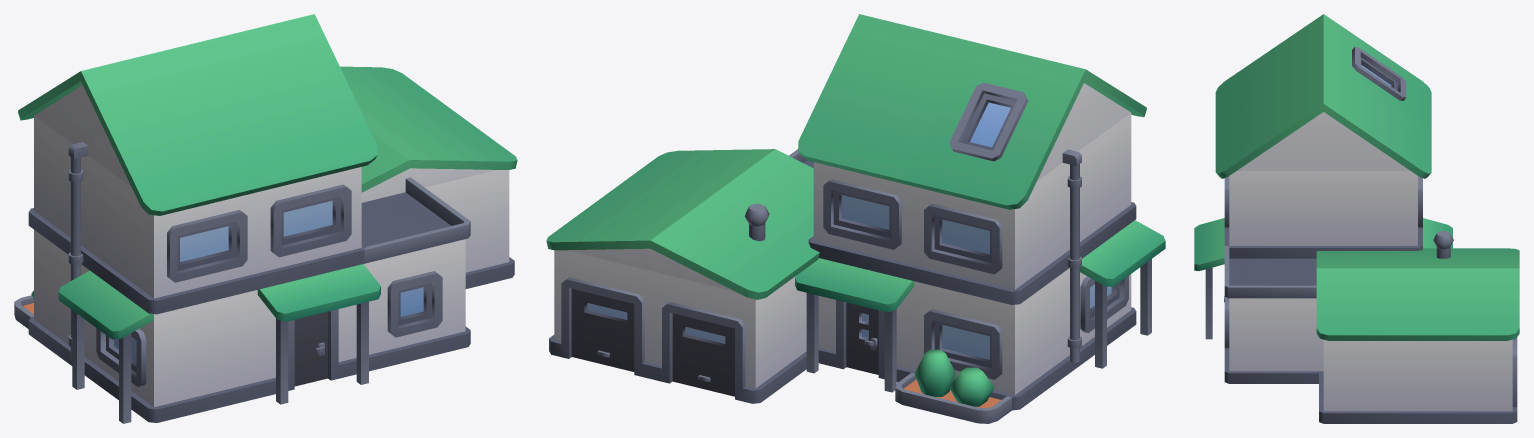
File: building-type-n.draco.glb
The picture shows the model from 3 angles, left to right: view 1: azimuth 30°, elevation 25°; view 2: azimuth 150°, elevation 25°; view 3: azimuth 270°, elevation 25°; orthographic projection. The views are drawn at different scales.
Visible parts, largest first — view 1: building-type-n; view 2: building-type-n; view 3: building-type-n.
Boxes of the visible parts, x1=… form: building-type-n: x1=14, y1=14, x2=517, y2=423; building-type-n: x1=546, y1=14, x2=1165, y2=423; building-type-n: x1=1194, y1=14, x2=1519, y2=423.
Size of the model in its own units: 1.78 by 1.14 by 1.38.
1 material, 1 textured.
